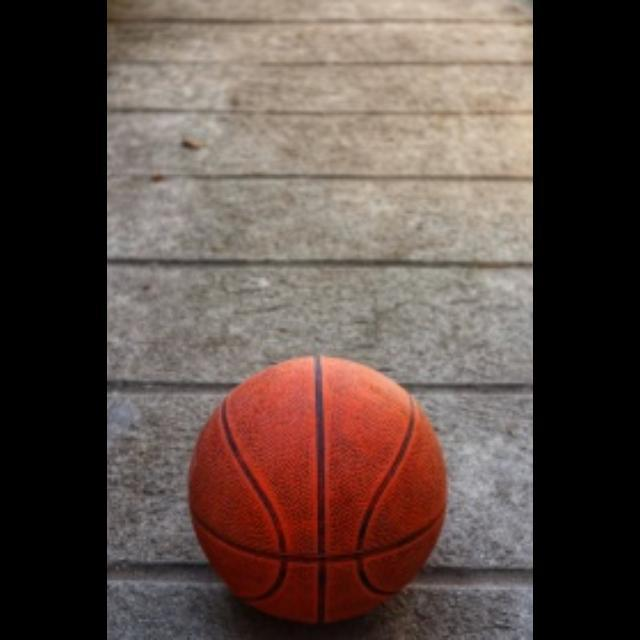basketball: (192, 356, 446, 622)
